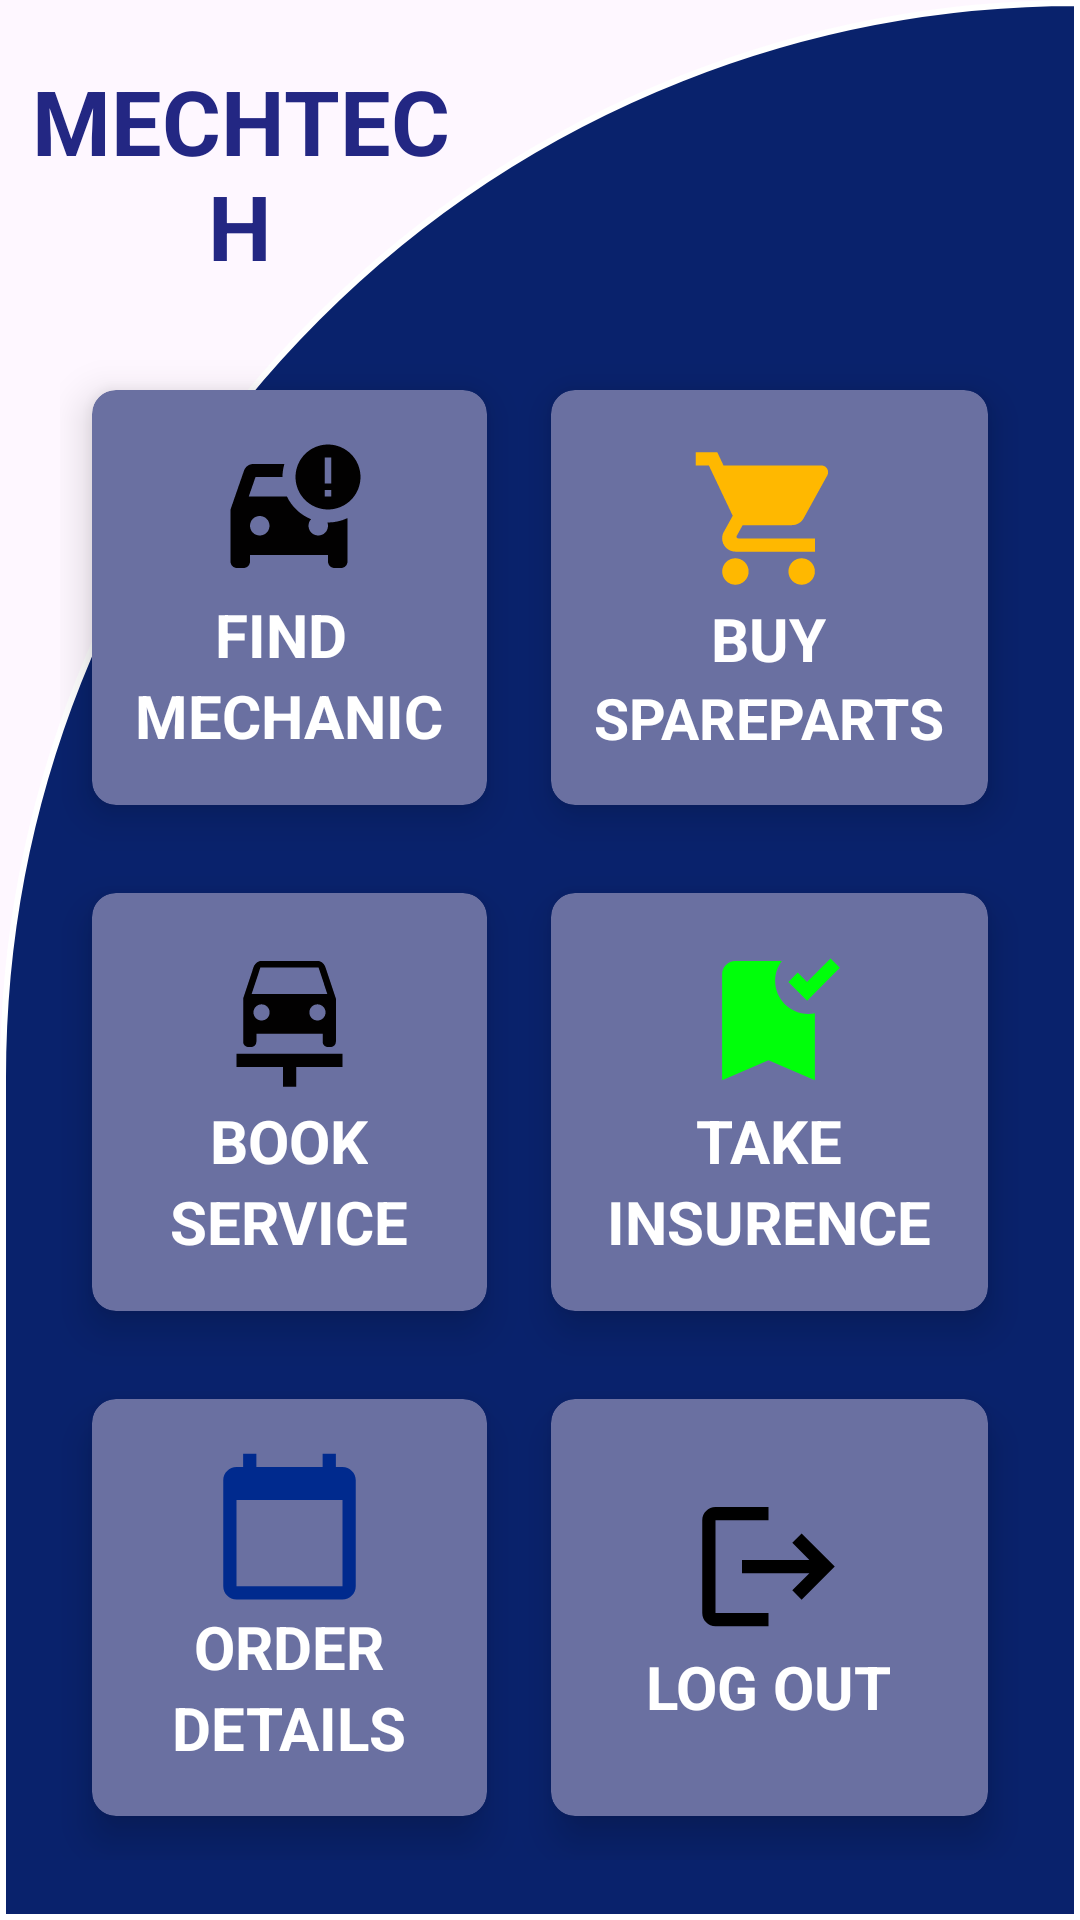

Icon bounding boxes for this 1080px x 1920px phone screenshot, format (x1, y1, x2, y2):
carcrash: (230, 444, 361, 568)
carrepair: (236, 961, 343, 1087)
shop: (695, 452, 828, 585)
